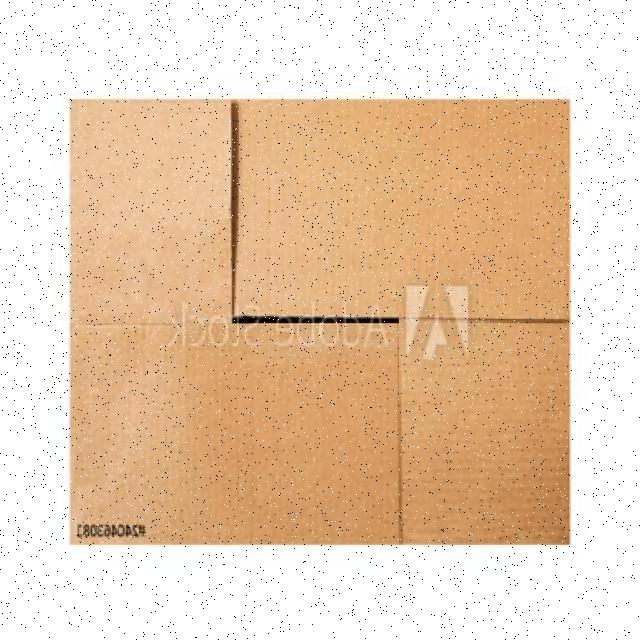normal: (62, 94, 576, 548)
